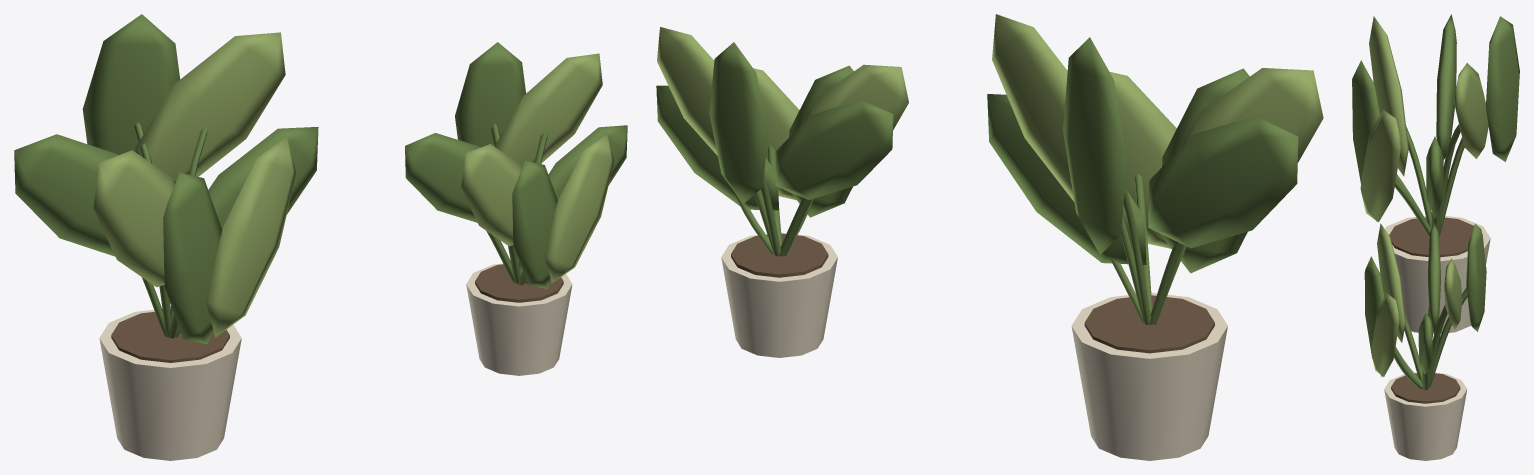
Rendered from study_ref_cabinet_plants.glb.
3 renders of one model, left to right at view 1: azimuth 30°, elevation 25°; view 2: azimuth 150°, elevation 25°; view 3: azimuth 270°, elevation 25°, orthographic. The views are drawn at different scales.
Bounding box in the file's own units: 1.17 × 0.7298 × 0.3632.
